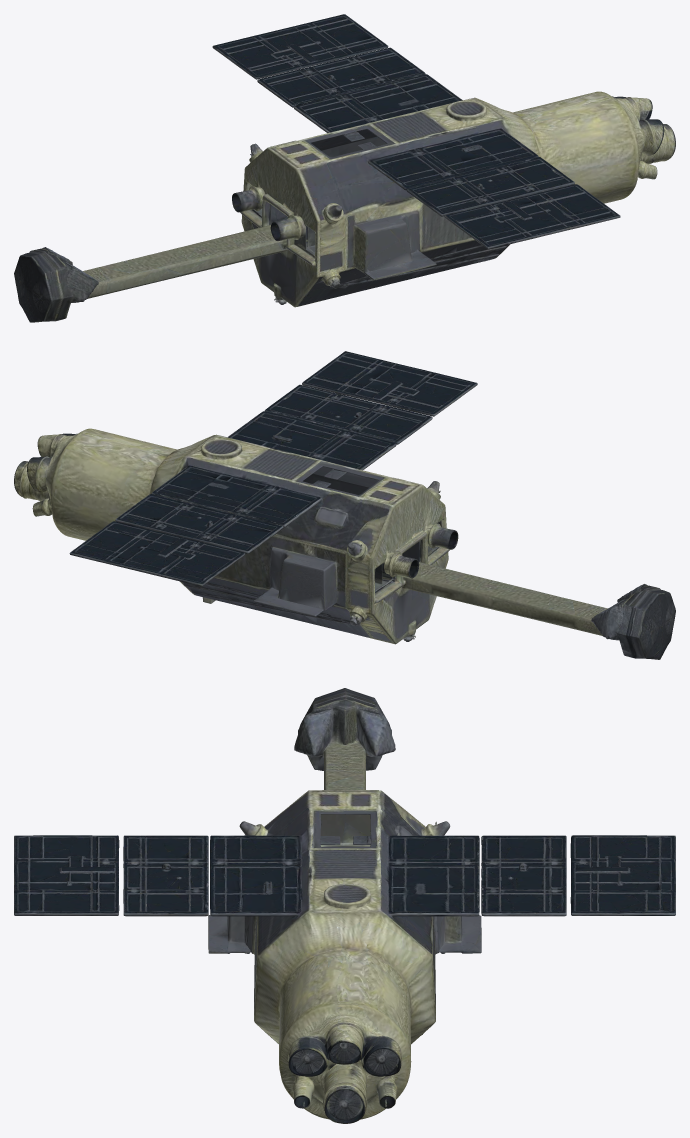
The model's file is hitomi.glb.
3 views of the same model, one above another, from view 1: azimuth 30°, elevation 25°; view 2: azimuth 150°, elevation 25°; view 3: azimuth 270°, elevation 25° (orthographic). The views are drawn at different scales.
Bounding box in the file's own units: 1.9 × 0.4237 × 1.42.
Materials: 1 (1 with a texture image).
